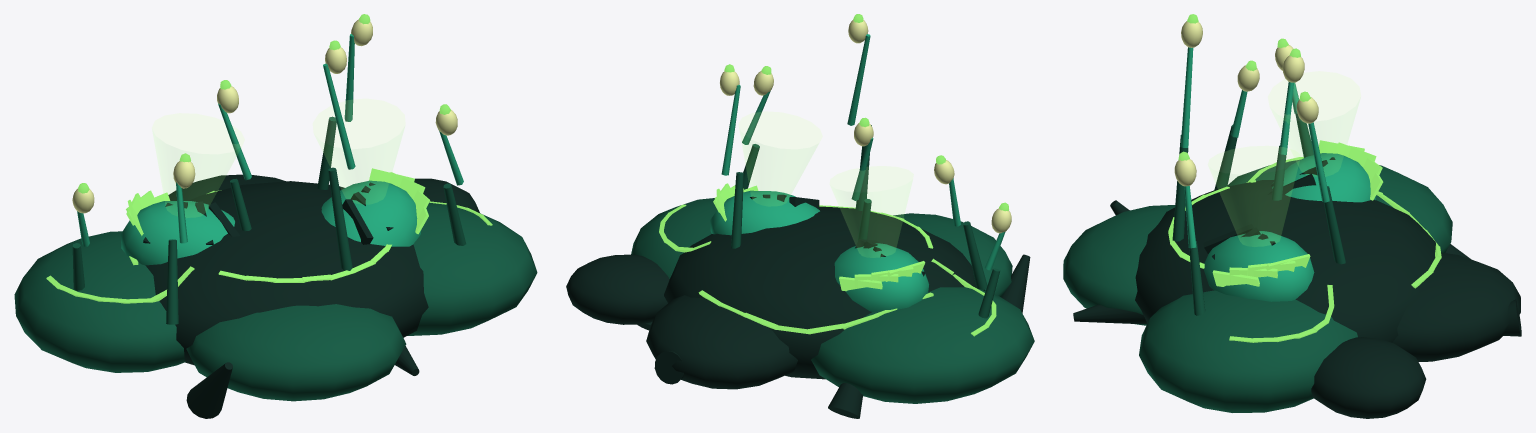
Rendered from spore-veil-pelagia.glb.
3 views of the same model, side by side, from view 1: azimuth 30°, elevation 25°; view 2: azimuth 150°, elevation 25°; view 3: azimuth 270°, elevation 25° (orthographic). The views are drawn at different scales.
Visible parts, largest first — view 1: lobe-core, lobe-south, lobe-west, lobe-east, gill-haze-stb, gill-haze-port, gill-mound-port, gill-mound-stb, root-flare-3, lobe-north, stalk-5-stem-lower, stalk-4-stem-lower (+10 smaller); view 2: lobe-core, lobe-west, lobe-north, lobe-runt, gill-haze-stb, gill-haze-port, gill-mound-port, lobe-east, gill-mound-stb, lobe-south, root-flare-5, root-flare-3 (+6 smaller); view 3: lobe-core, lobe-east, lobe-north, lobe-runt, lobe-south, gill-haze-stb, gill-haze-port, gill-mound-stb, lobe-west, gill-mound-port, root-flare-2, stalk-5-stem-upper (+15 smaller).
Part boxes in pixels (<box>): lobe-core: <box>145,181,428,365</box>; lobe-south: <box>186,304,406,401</box>; lobe-west: <box>14,231,185,372</box>; lobe-east: <box>407,202,537,335</box>; gill-haze-stb: <box>313,99,404,203</box>; gill-haze-port: <box>152,113,244,217</box>; gill-mound-port: <box>120,201,234,265</box>; gill-mound-stb: <box>321,180,421,246</box>; root-flare-3: <box>186,362,232,418</box>; lobe-north: <box>168,174,285,200</box>; stalk-5-stem-lower: <box>328,167,352,270</box>; stalk-4-stem-lower: <box>166,239,178,324</box>; lobe-core: <box>664,206,985,379</box>; lobe-west: <box>811,287,1034,403</box>; lobe-north: <box>646,295,797,389</box>; lobe-runt: <box>566,254,669,324</box>; gill-haze-stb: <box>739,112,821,205</box>; gill-haze-port: <box>830,166,913,257</box>; gill-mound-port: <box>834,243,928,311</box>; lobe-east: <box>631,198,717,278</box>; gill-mound-stb: <box>710,190,819,235</box>; lobe-south: <box>893,213,1012,296</box>; root-flare-5: <box>828,383,862,418</box>; root-flare-3: <box>1001,254,1030,313</box>; lobe-core: <box>1135,180,1435,342</box>; lobe-east: <box>1139,290,1357,412</box>; lobe-north: <box>1392,252,1520,361</box>; lobe-runt: <box>1311,337,1426,418</box>; lobe-south: <box>1063,205,1175,325</box>; gill-haze-stb: <box>1208,146,1300,246</box>; gill-haze-port: <box>1268,71,1360,175</box>; gill-mound-stb: <box>1203,231,1314,301</box>; lobe-west: <box>1227,159,1452,252</box>; gill-mound-port: <box>1272,153,1376,202</box>; root-flare-2: <box>1073,304,1146,324</box>; stalk-5-stem-upper: <box>1180,47,1193,147</box>.
Bounding box in the file's own units: 148 × 102 × 126.
